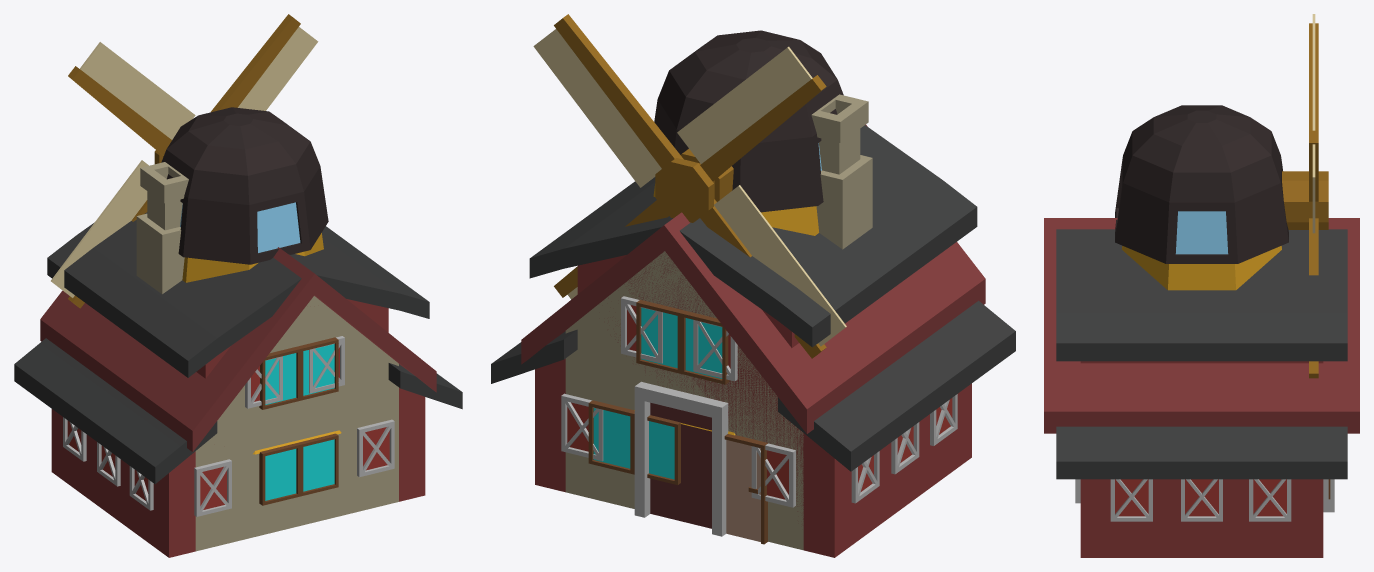
The picture shows the model from 3 angles, left to right: view 1: azimuth 30°, elevation 25°; view 2: azimuth 150°, elevation 25°; view 3: azimuth 270°, elevation 25°; orthographic projection. The views are drawn at different scales.
Visible parts, largest first — view 1: Barn, House, Mill, MillWings; view 2: Barn, House, MillWings, Mill; view 3: Barn, Mill, House, MillWings.
Part boxes in pixels (x1,y1,x2,y2): Barn: [14, 212, 462, 557]; House: [40, 162, 436, 551]; Mill: [161, 107, 341, 454]; MillWings: [51, 14, 318, 308]; Barn: [491, 125, 1015, 557]; House: [521, 94, 985, 550]; MillWings: [533, 14, 846, 358]; Mill: [634, 30, 843, 435]; Barn: [1056, 229, 1347, 557]; Mill: [1115, 105, 1288, 290]; House: [1044, 218, 1359, 499]; MillWings: [1282, 14, 1328, 378].
Bounding box in the file's own units: 302 × 397 × 260.
